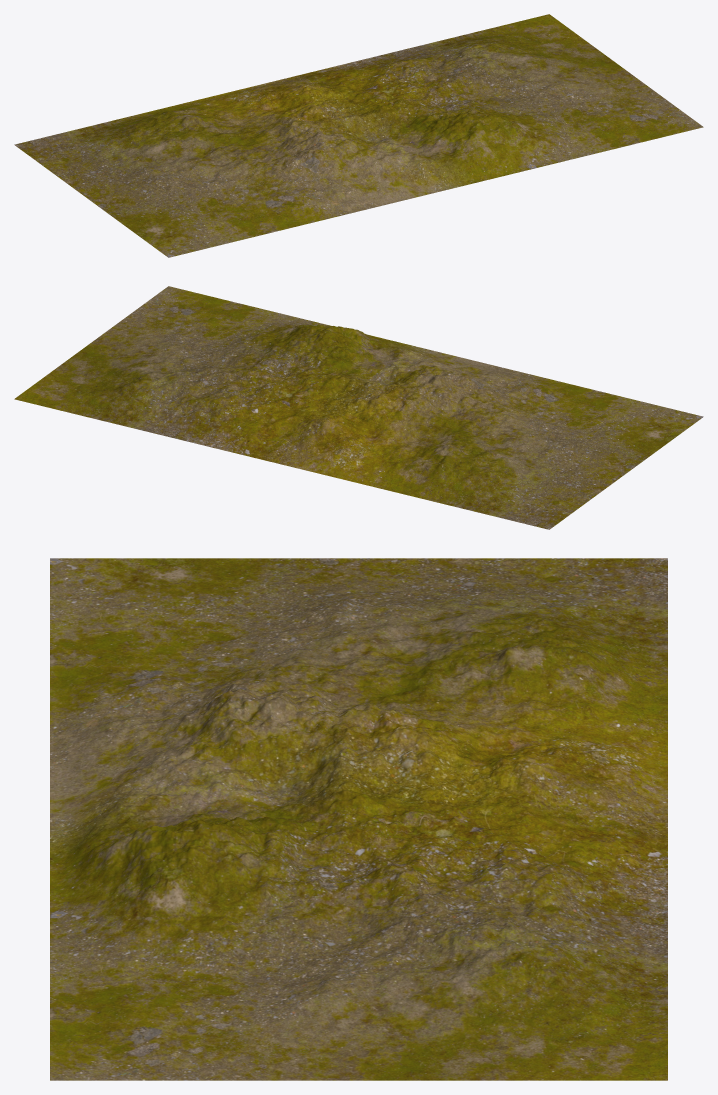
The model's file is terrain.glb.
3 renders of one model, top to bottom at view 1: azimuth 30°, elevation 25°; view 2: azimuth 150°, elevation 25°; view 3: azimuth 270°, elevation 25°, orthographic. The views are drawn at different scales.
Parts seen in each view (by area): view 1: Landscape.003; view 2: Landscape.003; view 3: Landscape.003.
Part boxes in pixels (x1=…): Landscape.003: x1=14, y1=14, x2=703, y2=257; Landscape.003: x1=14, y1=286, x2=703, y2=529; Landscape.003: x1=50, y1=558, x2=667, y2=1080.
Bounding box in the file's own units: 10 × 0.5671 × 5.
1 material, 1 textured.
